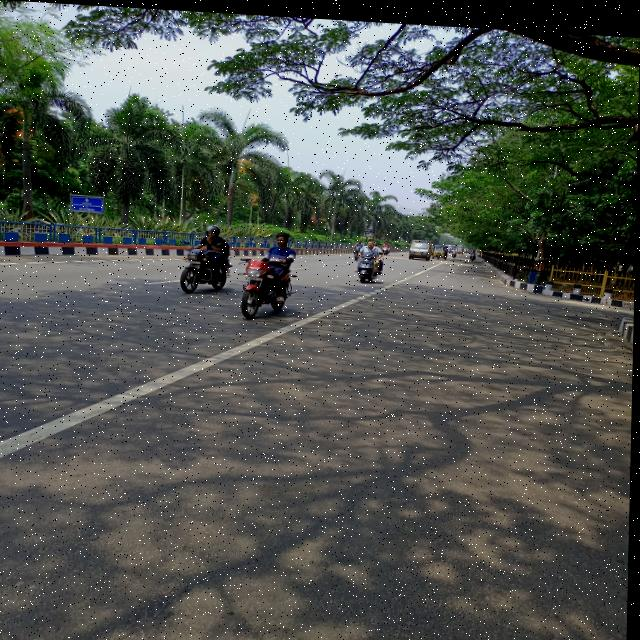bike: (239, 255, 308, 317), (182, 245, 239, 294), (354, 250, 387, 280)
